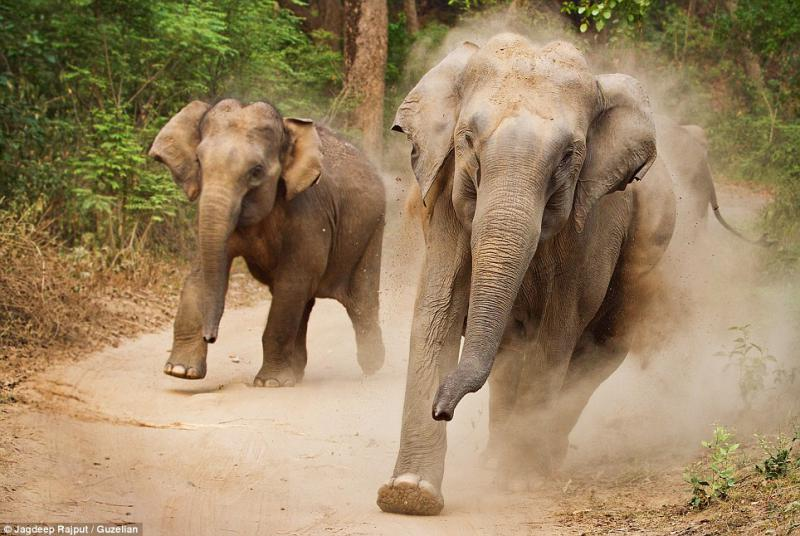elephant: (378, 29, 666, 516), (164, 105, 390, 389)
